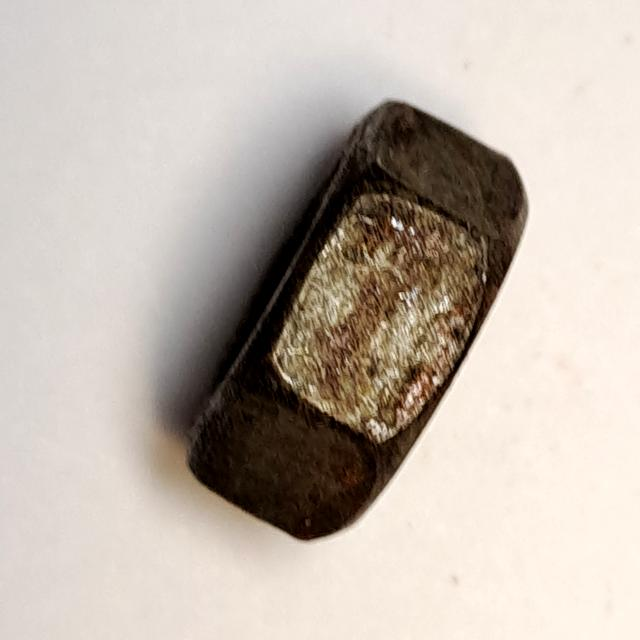Side_Rust: (156, 85, 542, 561)
